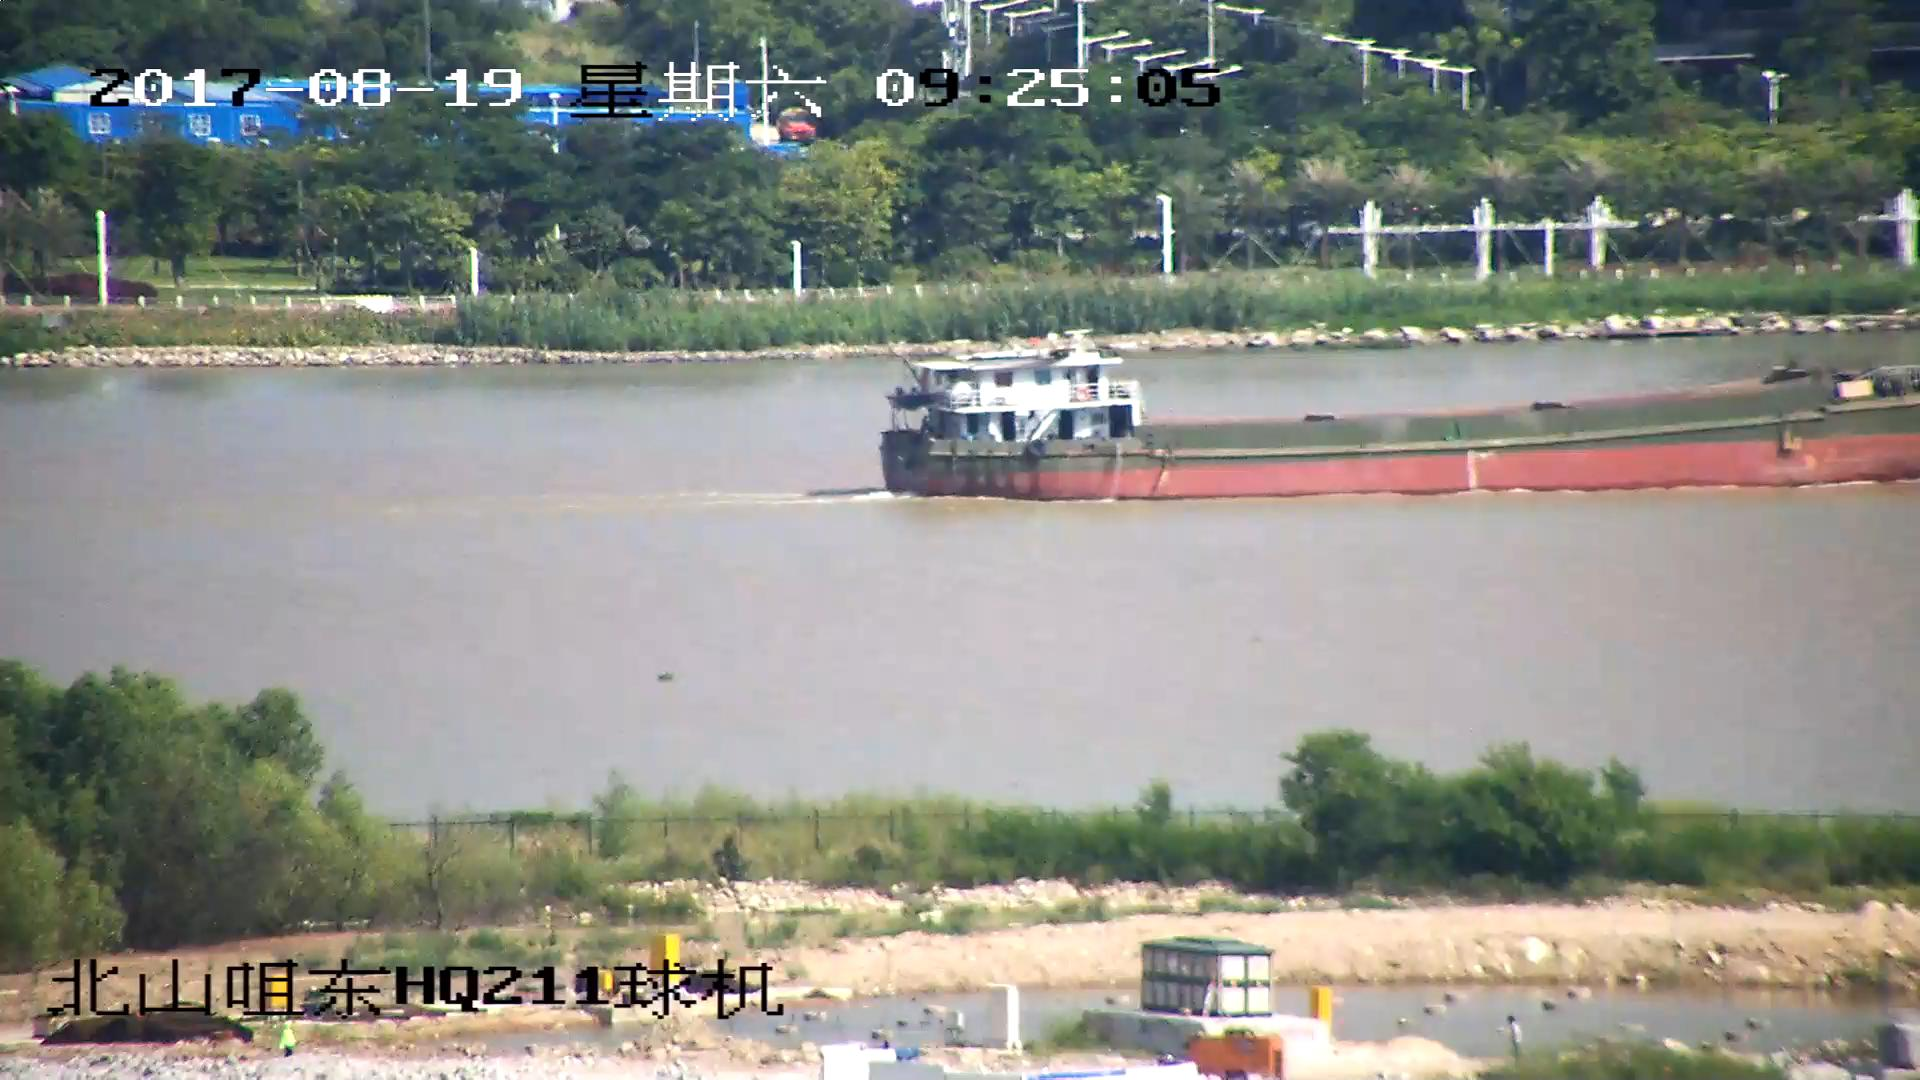bulk cargo carrier: (880, 343, 1920, 503)
